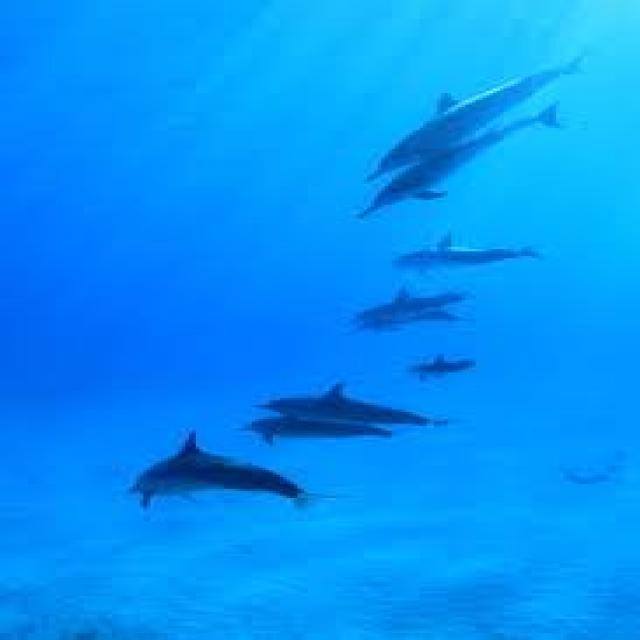dolphin: (367, 37, 584, 196), (353, 221, 567, 284)
